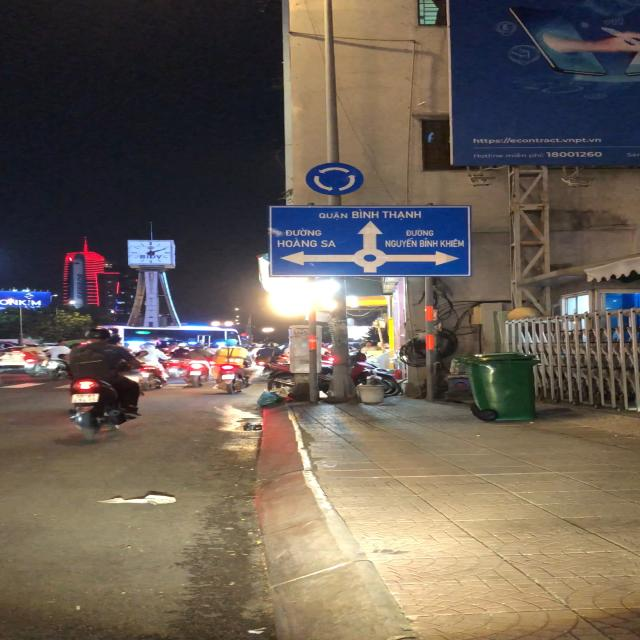Bien bao noi giao nhau chay theo vong xuyen: (303, 161, 367, 196)
